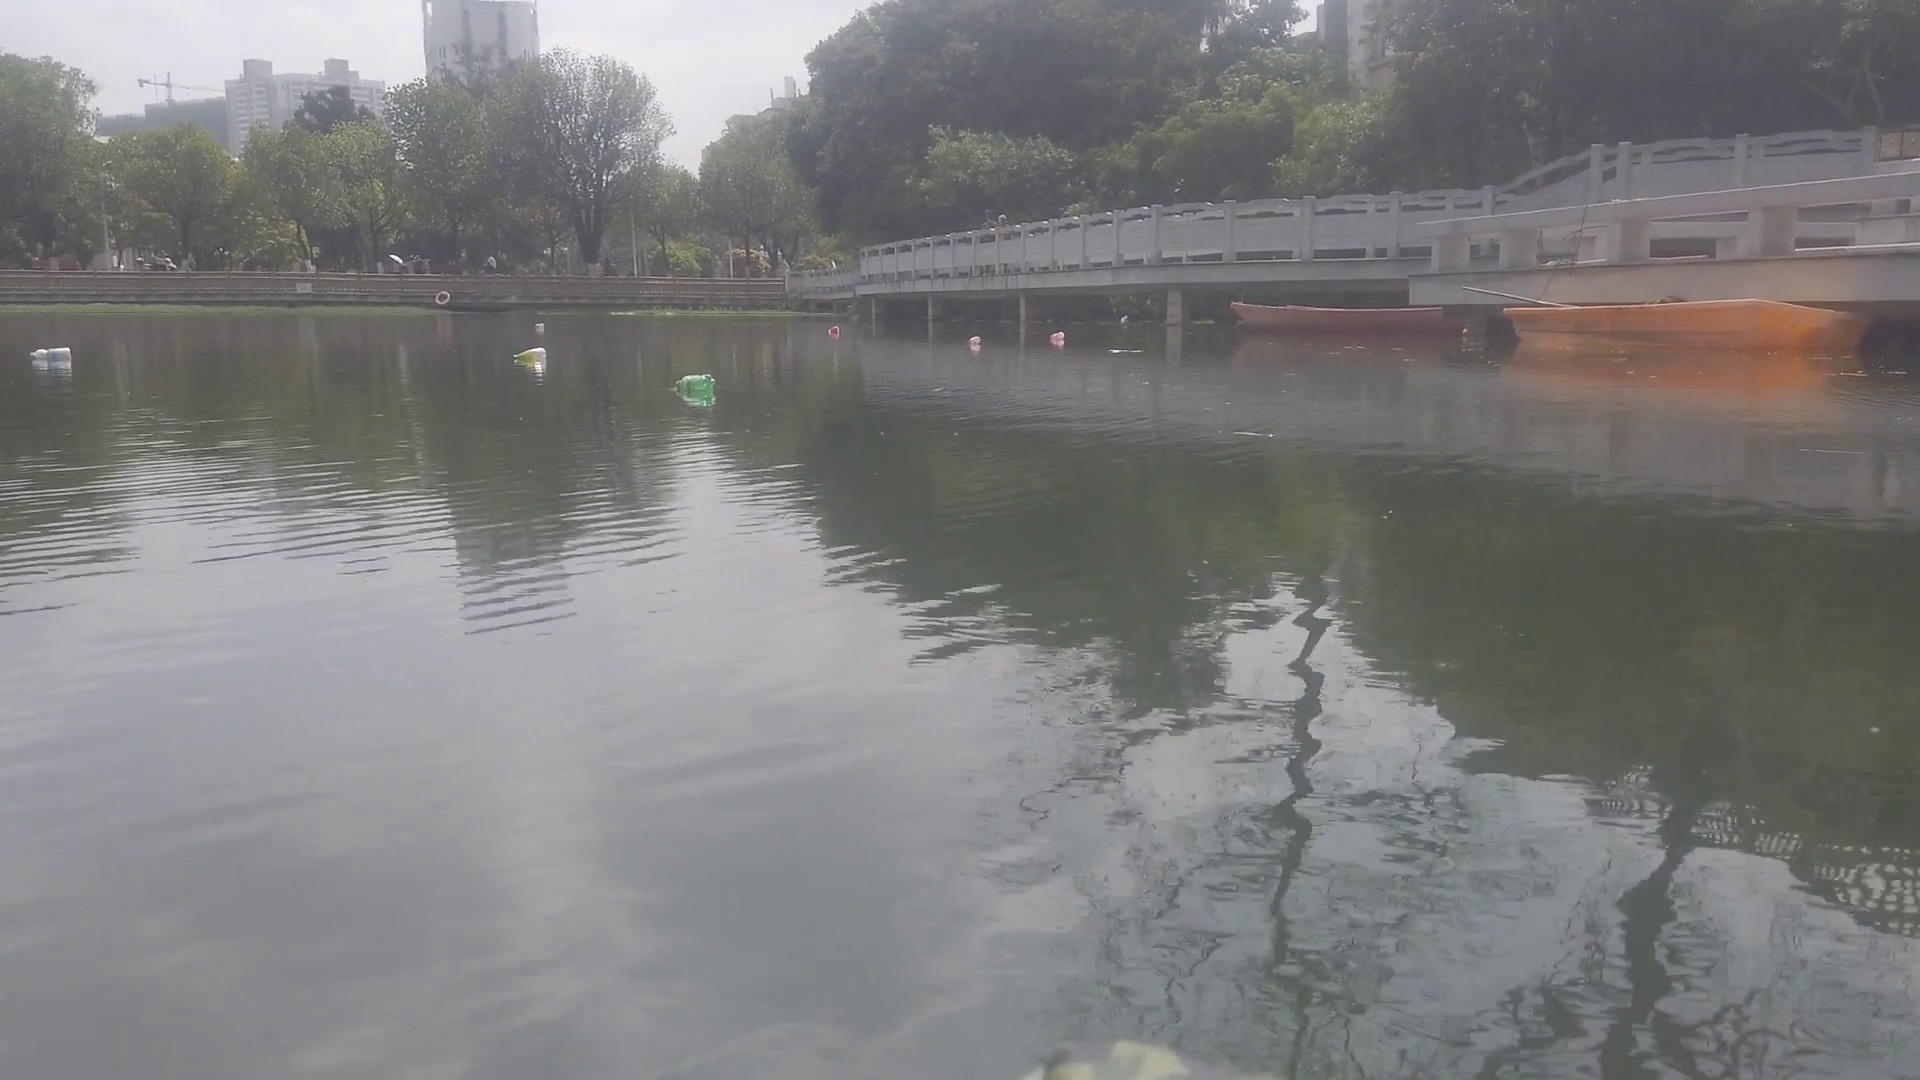bottle: (669, 371, 717, 390), (32, 343, 73, 363), (509, 347, 547, 364), (1046, 330, 1065, 342), (967, 332, 981, 347), (828, 323, 844, 334), (535, 323, 546, 330)
paper: (1108, 345, 1145, 356)
